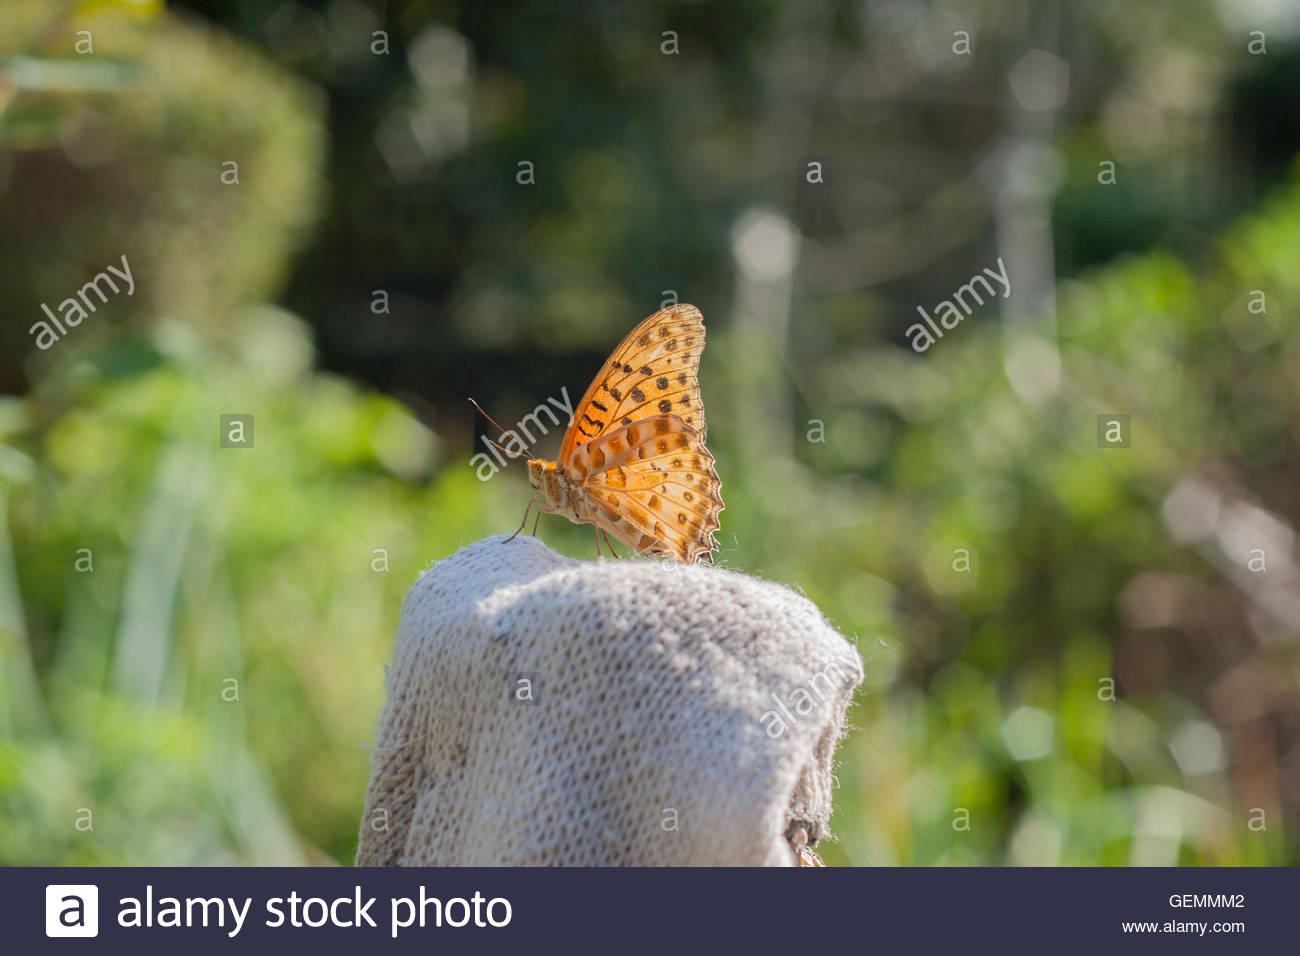Argyreus hyperbius: (458, 289, 729, 566)
butterfly: (460, 291, 731, 568)
